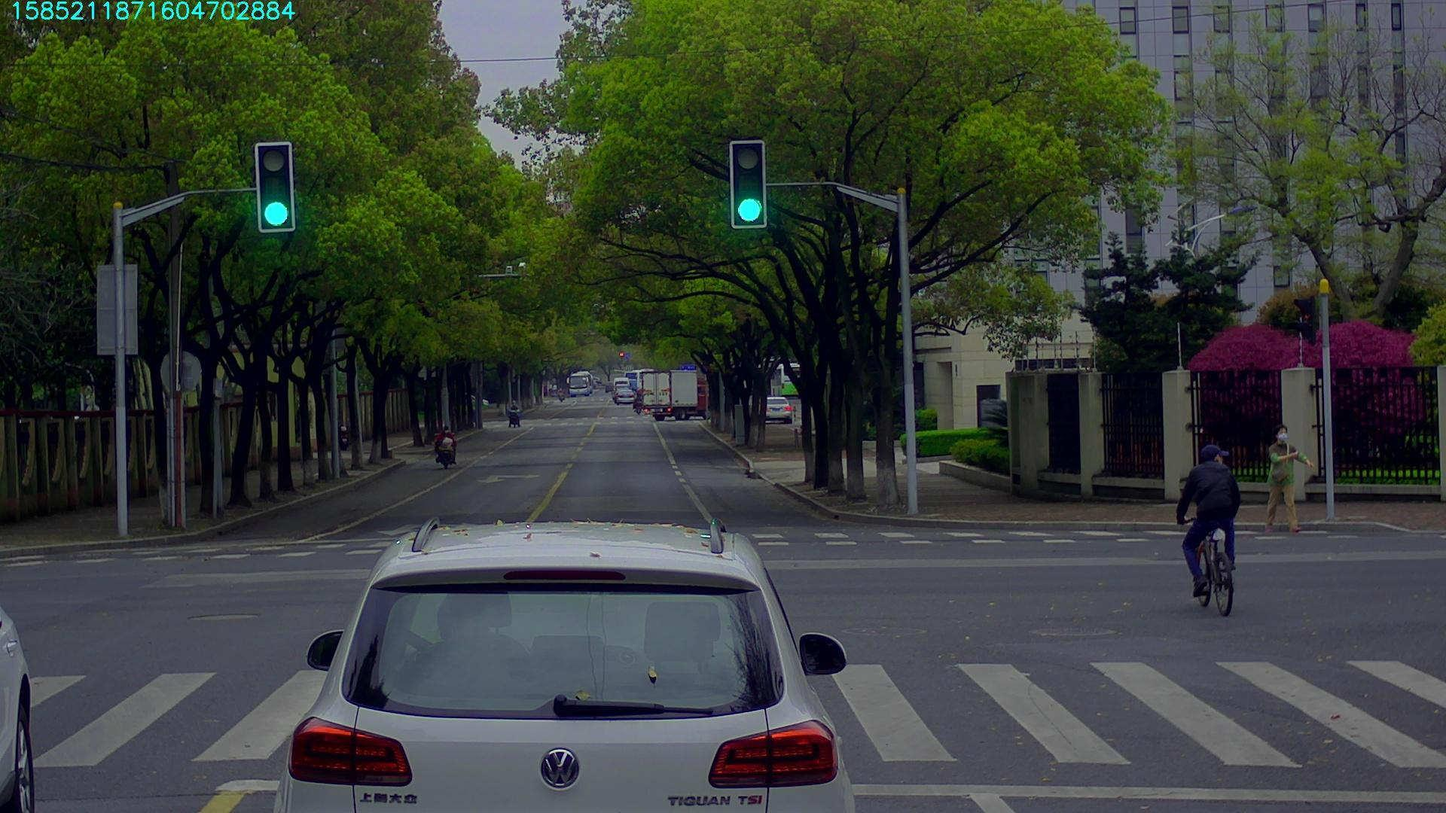green: (255, 142, 292, 230), (731, 141, 766, 227)
